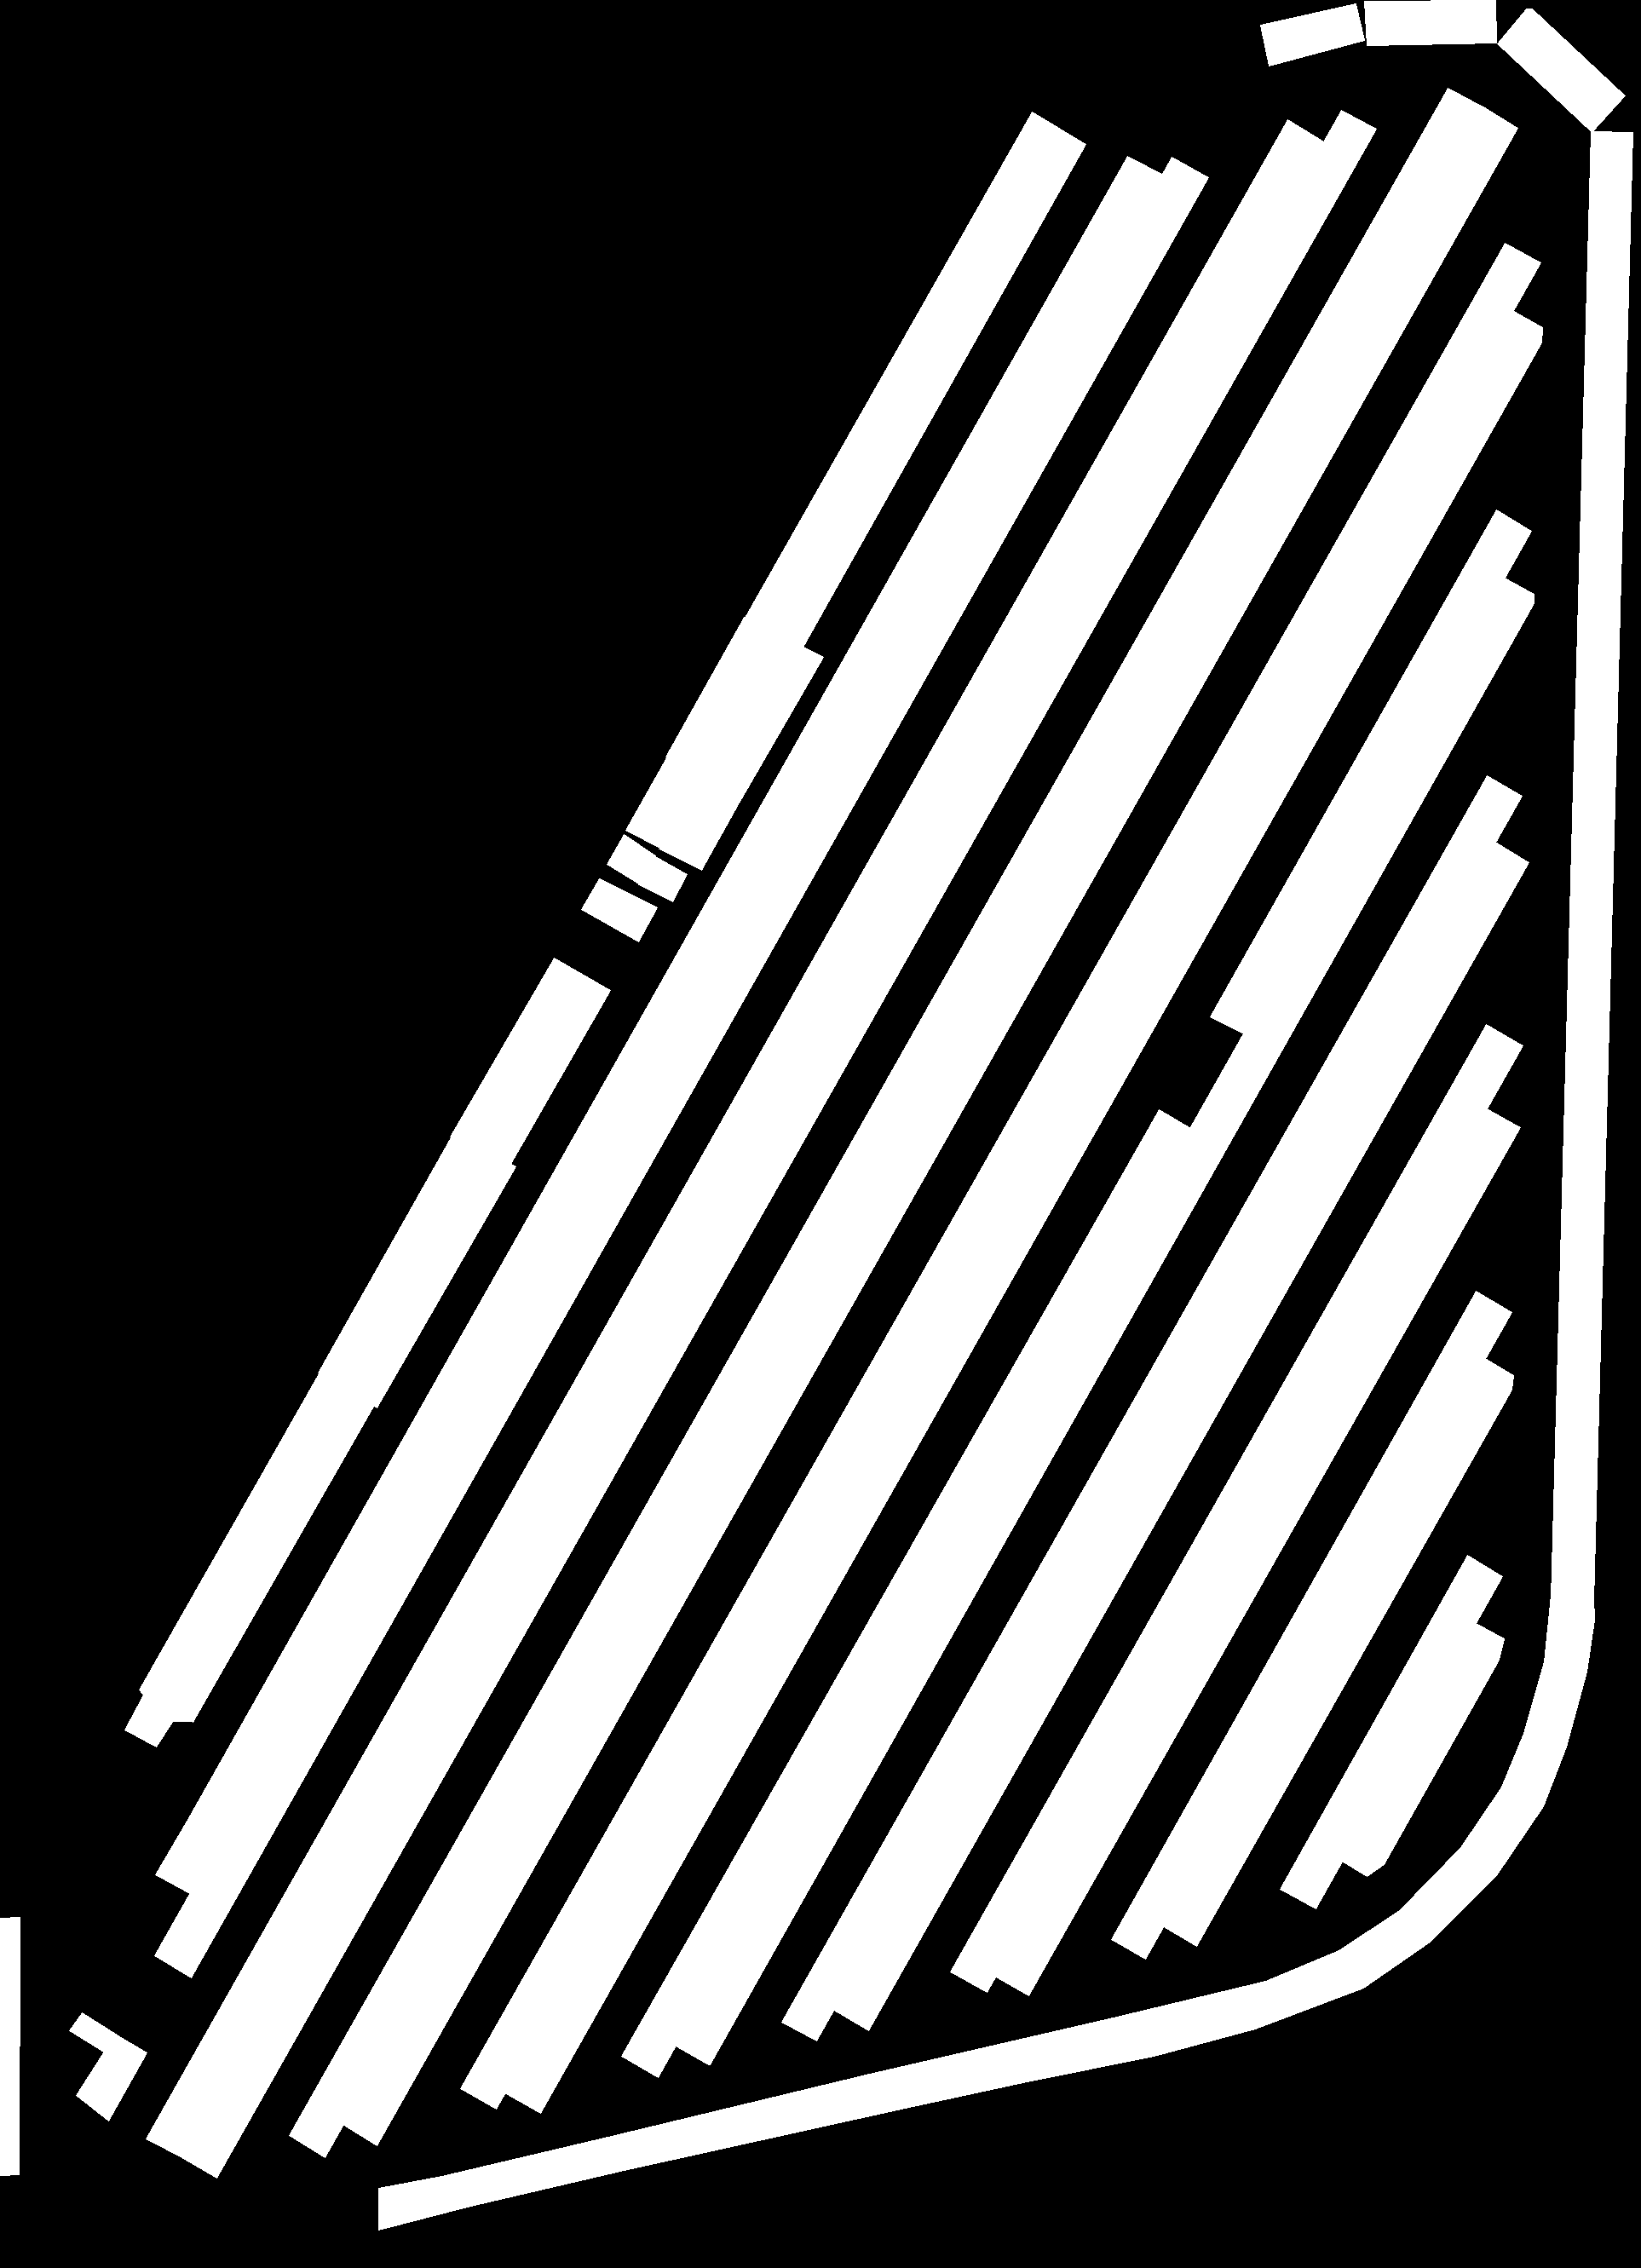parkingspot: (289, 88, 1484, 2157), (181, 109, 1377, 2178), (146, 120, 1324, 2159), (342, 106, 1518, 2145), (460, 243, 1541, 2110), (155, 157, 1208, 1977), (504, 310, 1542, 2113), (155, 157, 1166, 1895), (673, 576, 1534, 2064), (782, 775, 1521, 2041), (831, 842, 1528, 2030), (379, 1595, 1593, 2229), (951, 1025, 1523, 1992), (622, 1109, 1192, 2078), (993, 1108, 1520, 1995), (1111, 1291, 1511, 1958), (1160, 1358, 1512, 1946), (743, 111, 1085, 650), (1210, 509, 1532, 1035), (1551, 132, 1632, 1601), (125, 1372, 375, 1747), (1280, 1555, 1502, 1909), (317, 1134, 484, 1393), (349, 1150, 516, 1407), (1338, 1624, 1504, 1875), (451, 958, 609, 1169), (697, 636, 822, 798), (666, 616, 778, 775), (1497, 9, 1625, 132), (659, 773, 743, 870), (625, 757, 699, 847), (1261, 4, 1365, 65), (76, 2034, 146, 2120), (1365, 0, 1497, 46), (0, 1918, 19, 2175), (581, 879, 657, 942), (607, 835, 655, 884), (637, 856, 687, 902), (69, 2013, 116, 2053)
